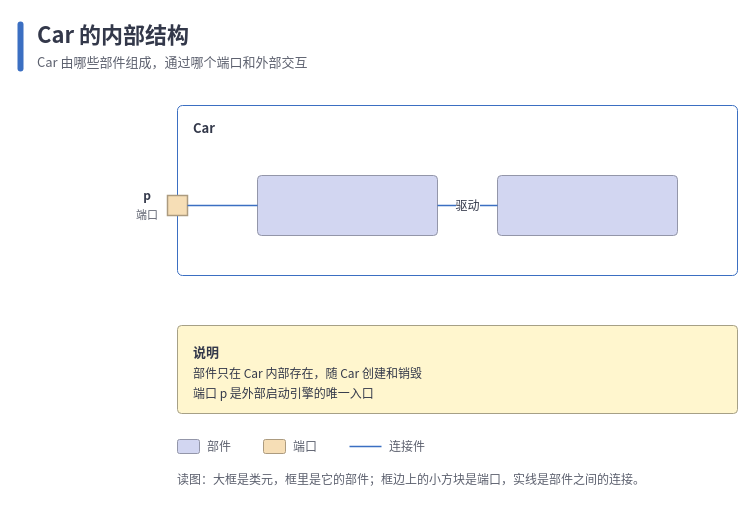
The diagram is 755 pixels wide and 506 high, and some of its shapes have lost their labels. Here are the shapes that lost their labels. From the top down, the centre of each, then its label:
point (347, 205): engine : Engine
point (587, 205): wheels : Wheel [4]
